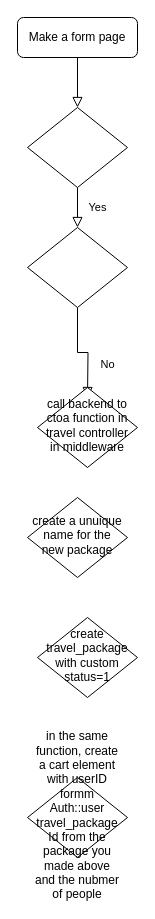
Some shapes in this 155 by 919 pixel diagram are drawn without their labels. Here are the shapes that lost their labels. From the top down, the centre of each, then its label:
At point 77,147: "Take all travel package inputs".
At point 77,267: "make sure to take number of people".
